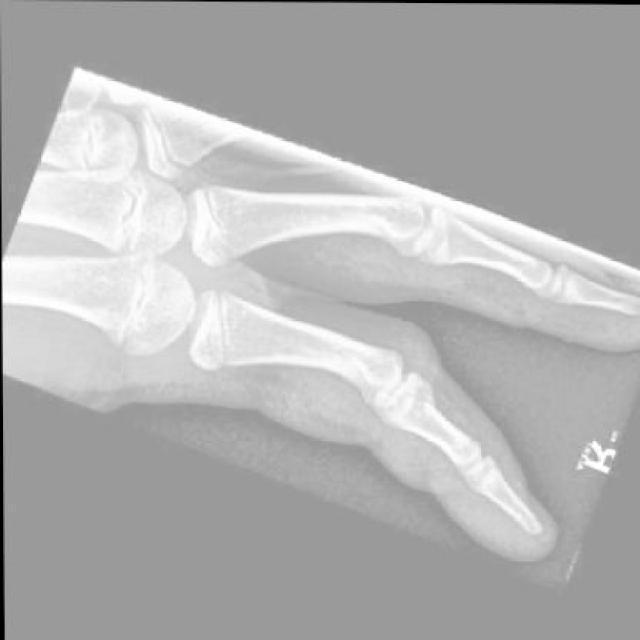Fracture: (375, 365, 450, 443)
